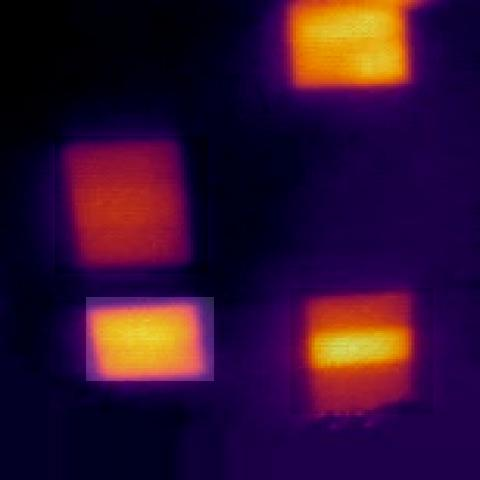fault: (55, 136, 208, 274), (290, 288, 433, 414), (272, 0, 427, 94), (86, 297, 214, 381)
